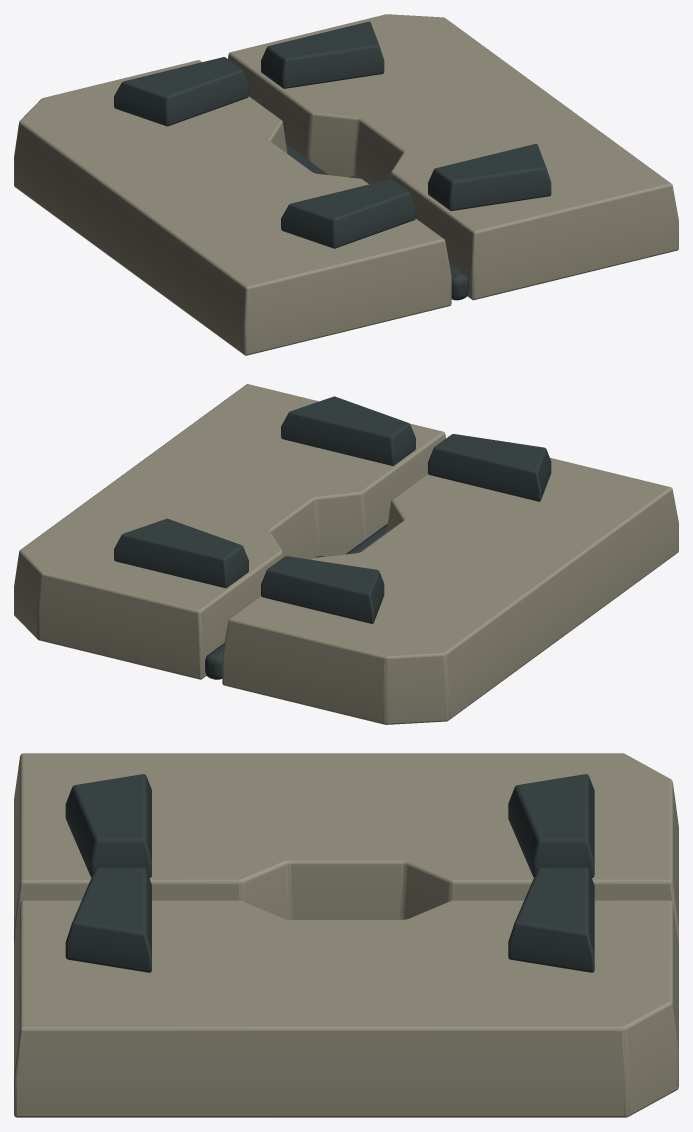
The model's file is sealed_vault_seam_lod1.glb.
The picture shows the model from 3 angles, top to bottom: view 1: azimuth 30°, elevation 25°; view 2: azimuth 150°, elevation 25°; view 3: azimuth 270°, elevation 25°; orthographic projection. The views are drawn at different scales.
Parts seen in each view (by area): view 1: LOD1_ancient, LOD1_substrate; view 2: LOD1_ancient, LOD1_substrate; view 3: LOD1_ancient, LOD1_substrate.
Boxes of the visible parts, x1,y1,x2,y2 form: LOD1_ancient: (14,14,678,355); LOD1_substrate: (114,21,551,300); LOD1_ancient: (14,384,678,724); LOD1_substrate: (114,396,551,679); LOD1_ancient: (14,753,678,1117); LOD1_substrate: (65,774,594,972).
Size of the model in its own units: 2.6 by 0.6 by 2.6.
